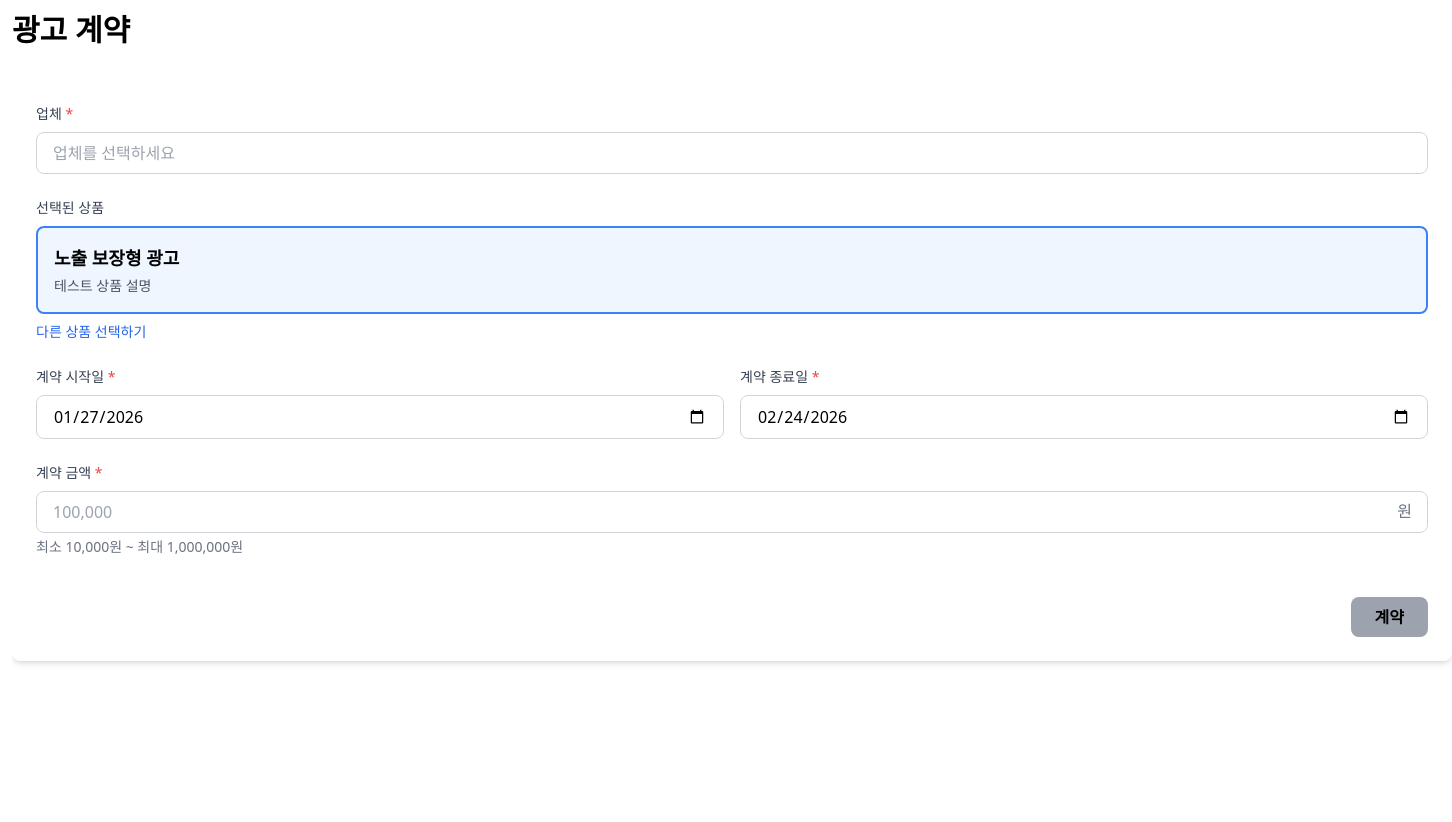
Test: ContractNewPage › 금액이 최소 금액 미만일 때 유효성 검사 에러가 표시되어야 함
Type "테스트 호텔" into the field with placeholder "업체를 선택하세요" at (732, 153), box [36,132,1428,174]
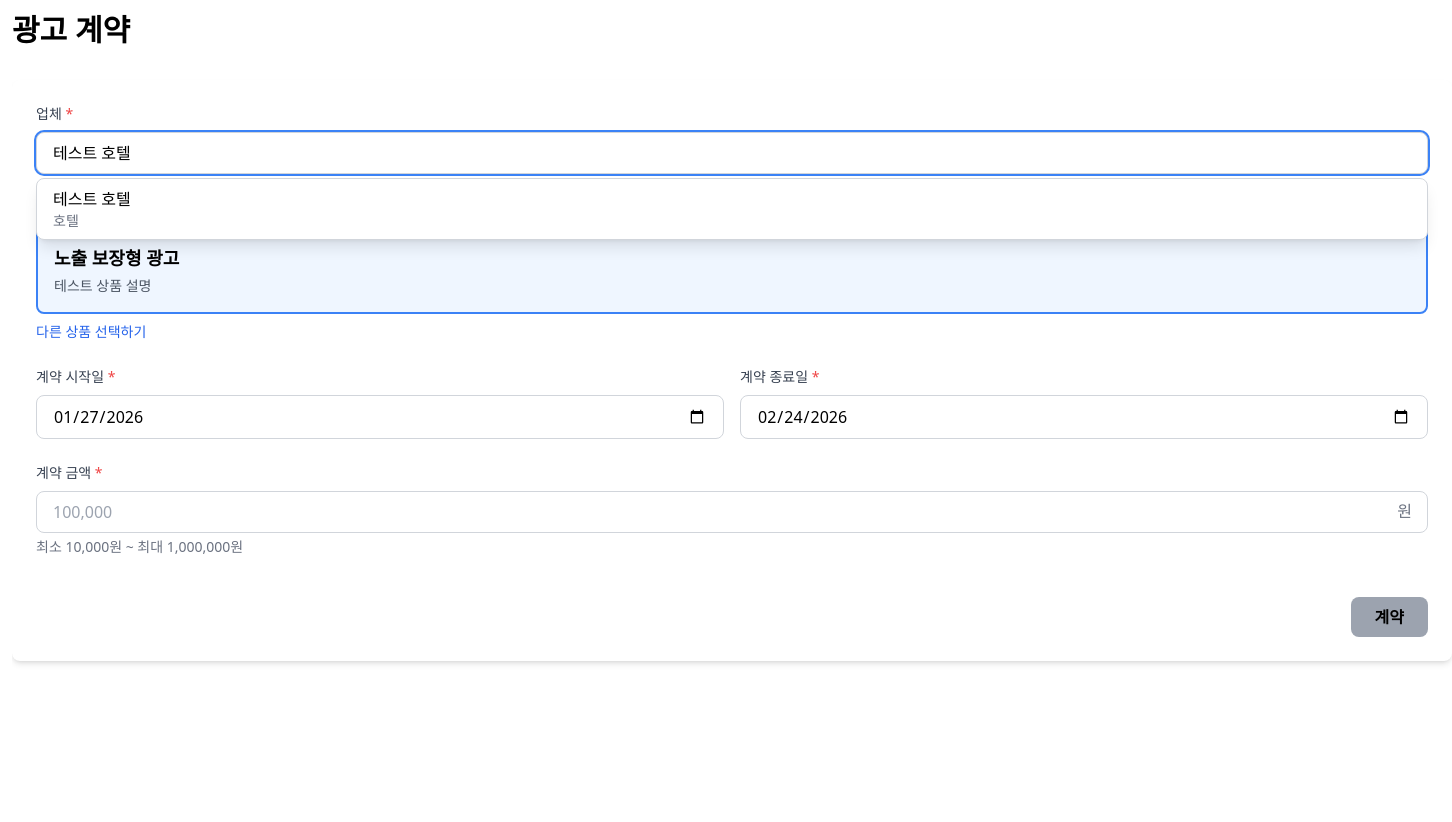
Click the text "테스트 호텔" at (92, 199), box [53,188,131,210]
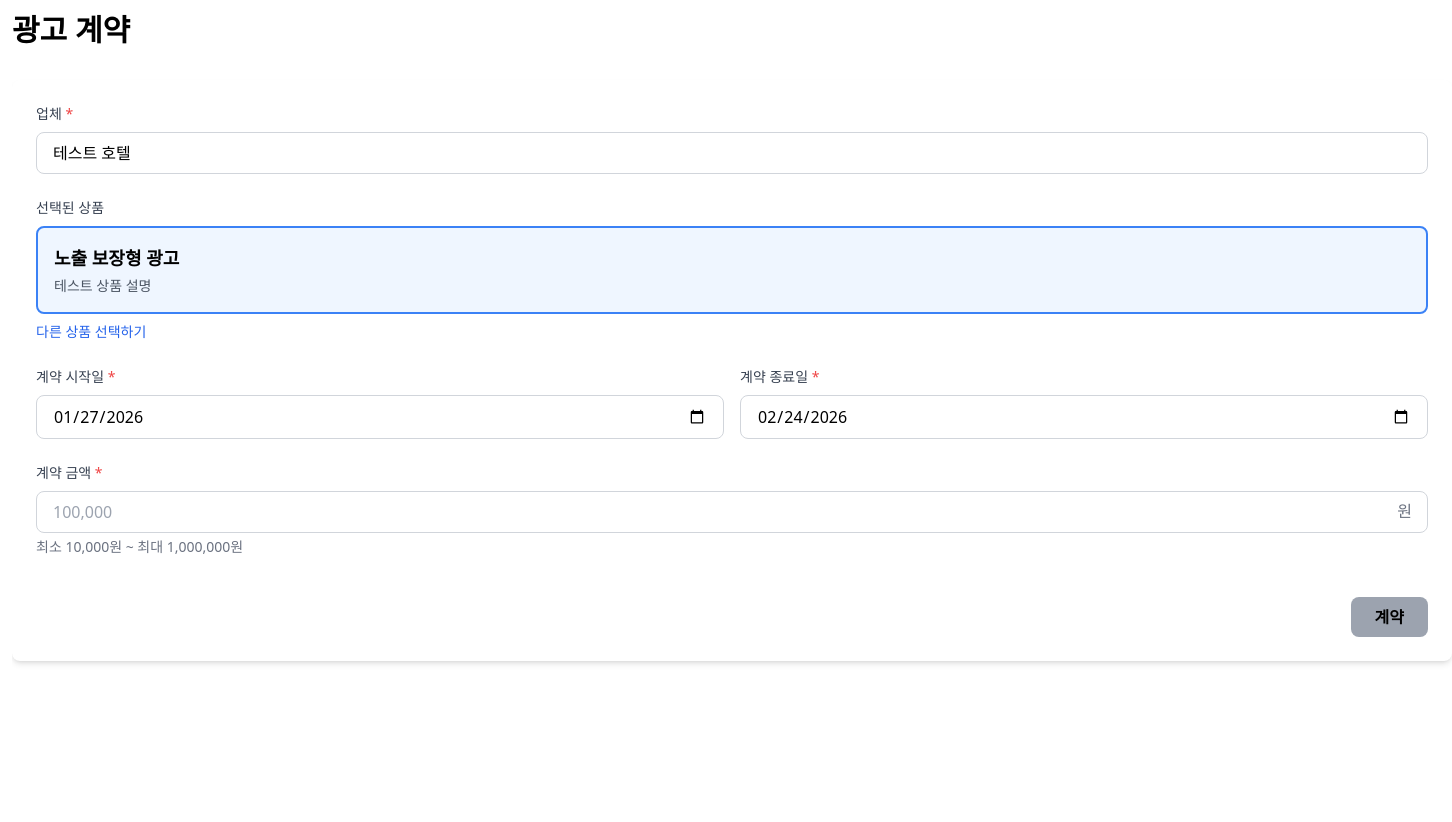
Type "9999" into the field with placeholder "100,000" at (732, 512), box [36,491,1428,533]
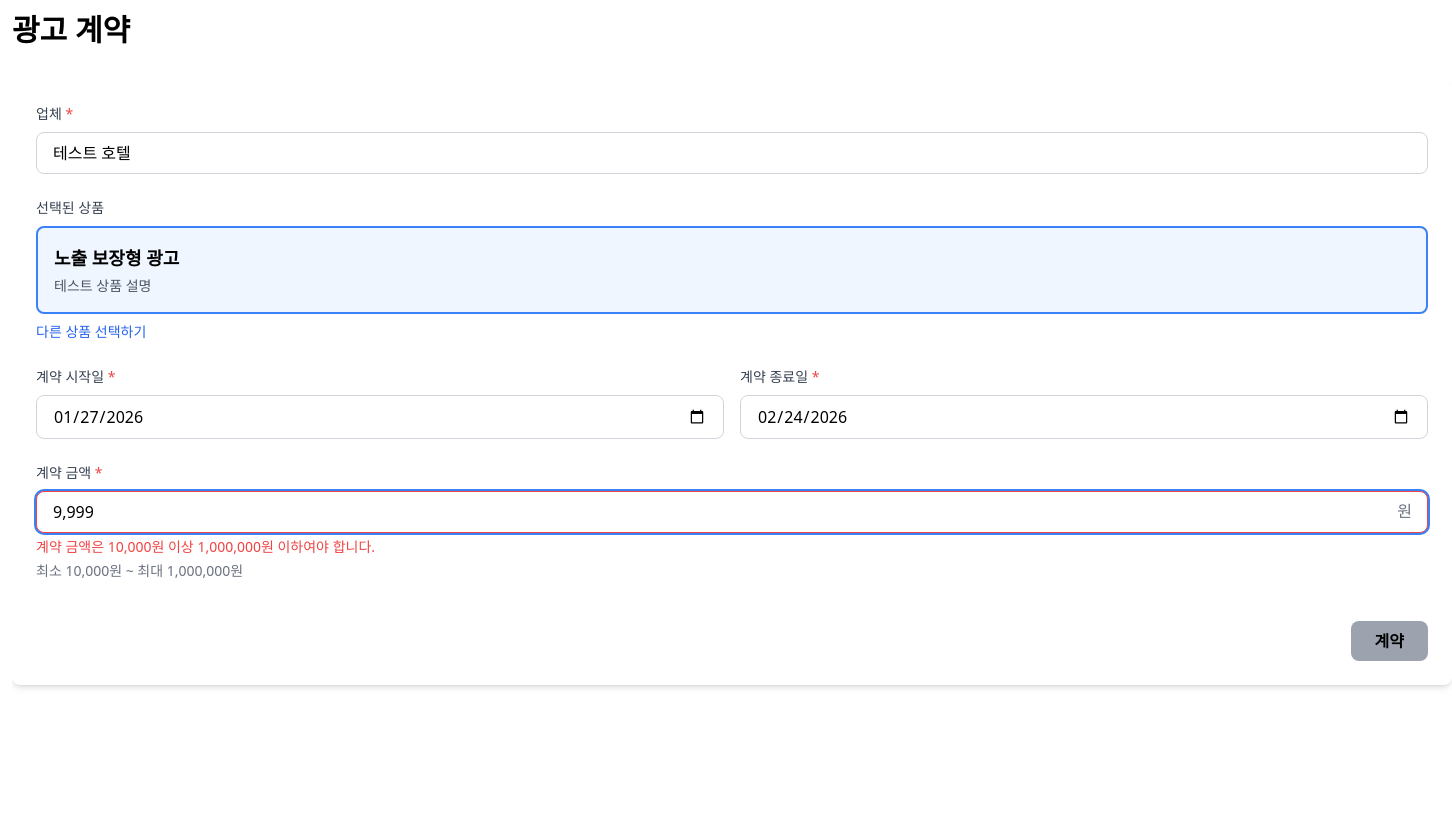
Now the text "계약 금액은 10,000원 이상 1,000,000원 이하여야 합니다." is shown, box [36,537,375,556]
